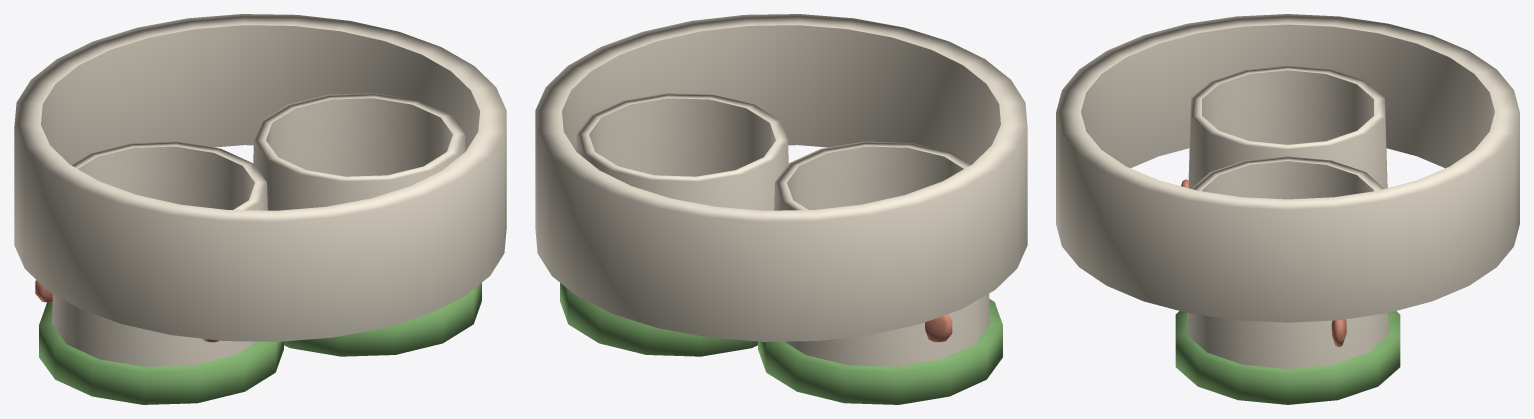
Rendered from botanical_shorts.glb.
The picture shows the model from 3 angles, left to right: view 1: azimuth 30°, elevation 25°; view 2: azimuth 150°, elevation 25°; view 3: azimuth 270°, elevation 25°; orthographic projection. The views are drawn at different scales.
Visible parts, largest first — view 1: botanical_shorts_Body, botanical_shorts_LegL, botanical_shorts_LegR; view 2: botanical_shorts_Body, botanical_shorts_LegL, botanical_shorts_LegR; view 3: botanical_shorts_Body, botanical_shorts_LegR, botanical_shorts_LegL.
Part boxes in pixels (left/top/right/bottom): botanical_shorts_Body: left=14, top=14, right=506, bottom=341; botanical_shorts_LegL: left=35, top=141, right=283, bottom=404; botanical_shorts_LegR: left=253, top=93, right=481, bottom=356; botanical_shorts_Body: left=535, top=14, right=1027, bottom=341; botanical_shorts_LegL: left=758, top=141, right=1002, bottom=404; botanical_shorts_LegR: left=560, top=93, right=788, bottom=356; botanical_shorts_Body: left=1056, top=14, right=1519, bottom=322; botanical_shorts_LegR: left=1175, top=156, right=1400, bottom=404; botanical_shorts_LegL: left=1181, top=65, right=1387, bottom=188.
Bounding box in the file's own units: 0.41 × 0.194 × 0.41.
